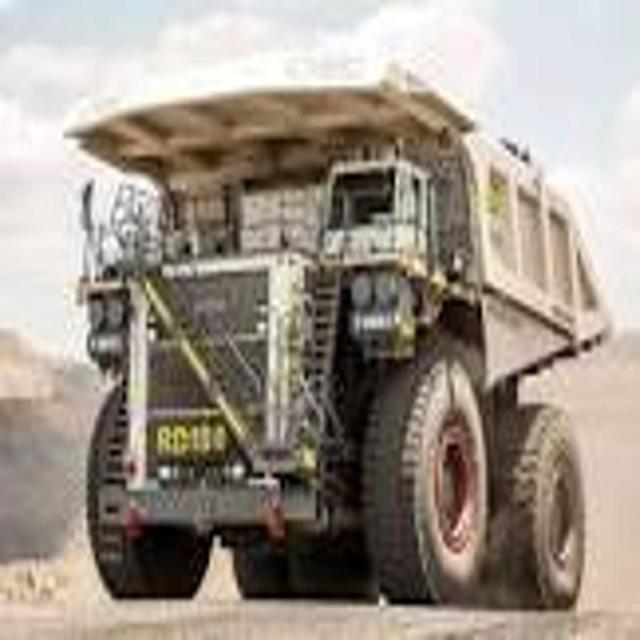dump_truck: (62, 55, 612, 618)
